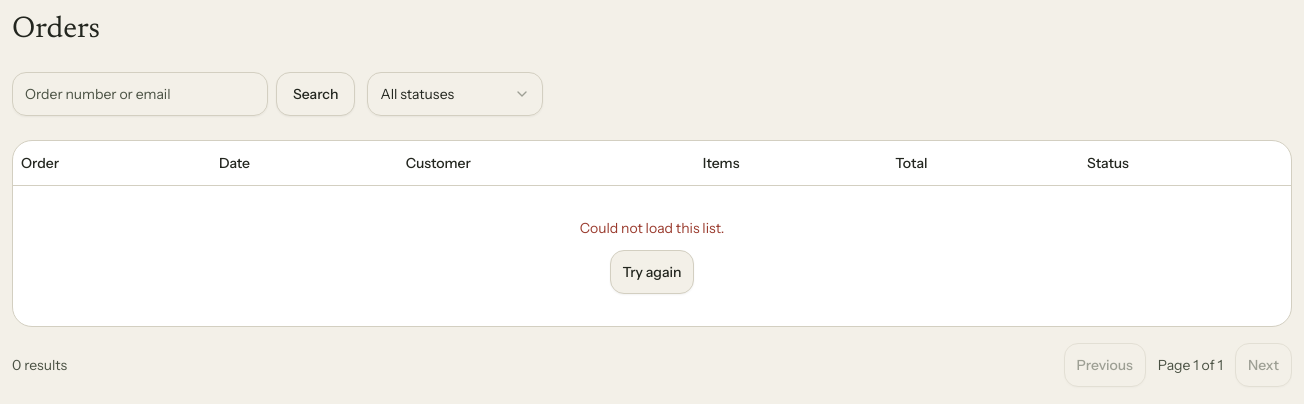
Test case: admin OrdersPage › shows an error with a retry button
Expected: the message shows "Could not load this list.", left=580, top=219, right=724, bottom=237
Click the button "Try again" at [652, 272], box left=610, top=250, right=694, bottom=294
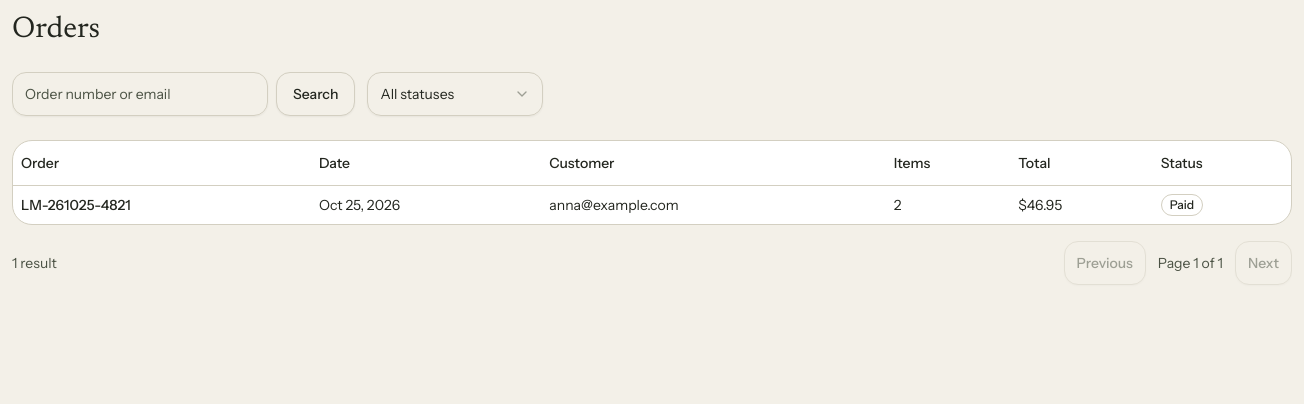
Expected: the link "LM-261025-4821" is shown, left=21, top=196, right=131, bottom=214
